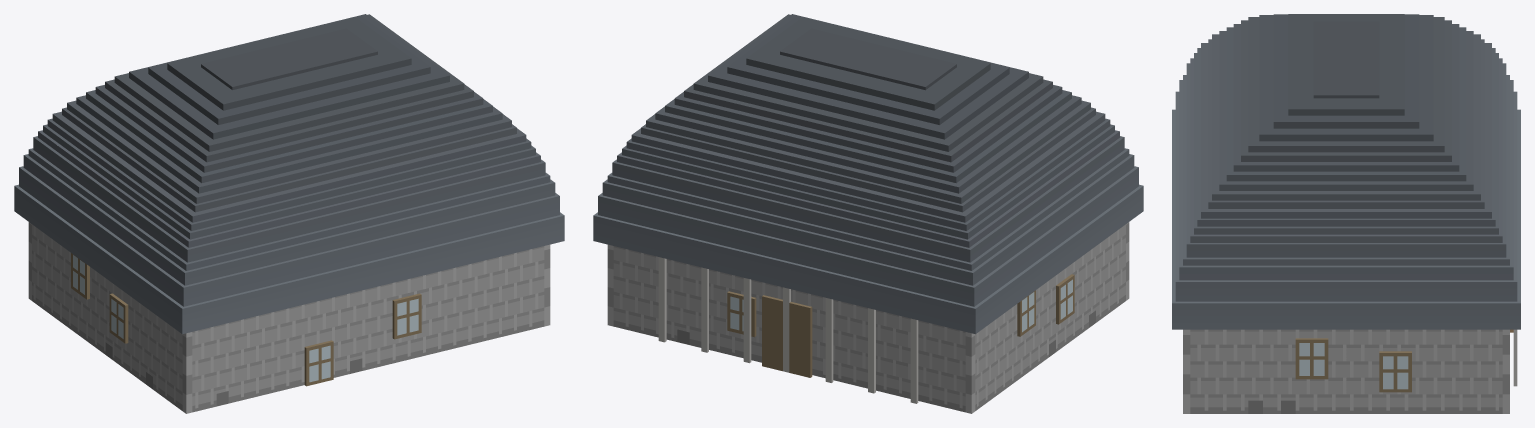
The model's file is museo_01.glb.
3 views of the same model, side by side, from view 1: azimuth 30°, elevation 25°; view 2: azimuth 150°, elevation 25°; view 3: azimuth 270°, elevation 25° (orthographic). The views are drawn at different scales.
Parts seen in each view (by area): view 1: museo_01; view 2: museo_01; view 3: museo_01.
Part boxes in pixels (x1,y1,x2,y2): museo_01: (14, 14, 564, 413); museo_01: (593, 14, 1143, 413); museo_01: (1172, 14, 1520, 413).
Size of the model in its own units: 12.6 by 8 by 9.6.
